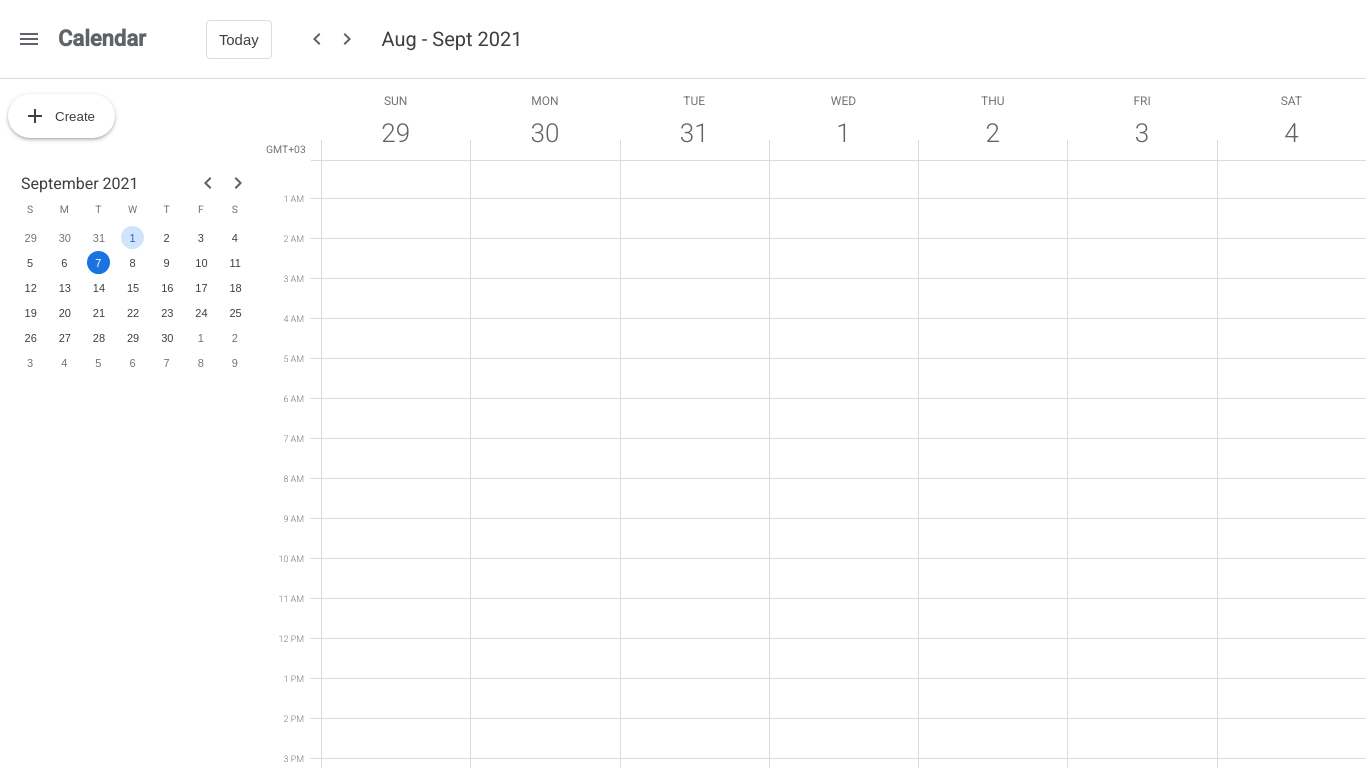
Test: App › Header › should render previous week days when previous week button is clicked
Click the button with test id "previous-week-button" at (317, 39), box left=302, top=24, right=332, bottom=54
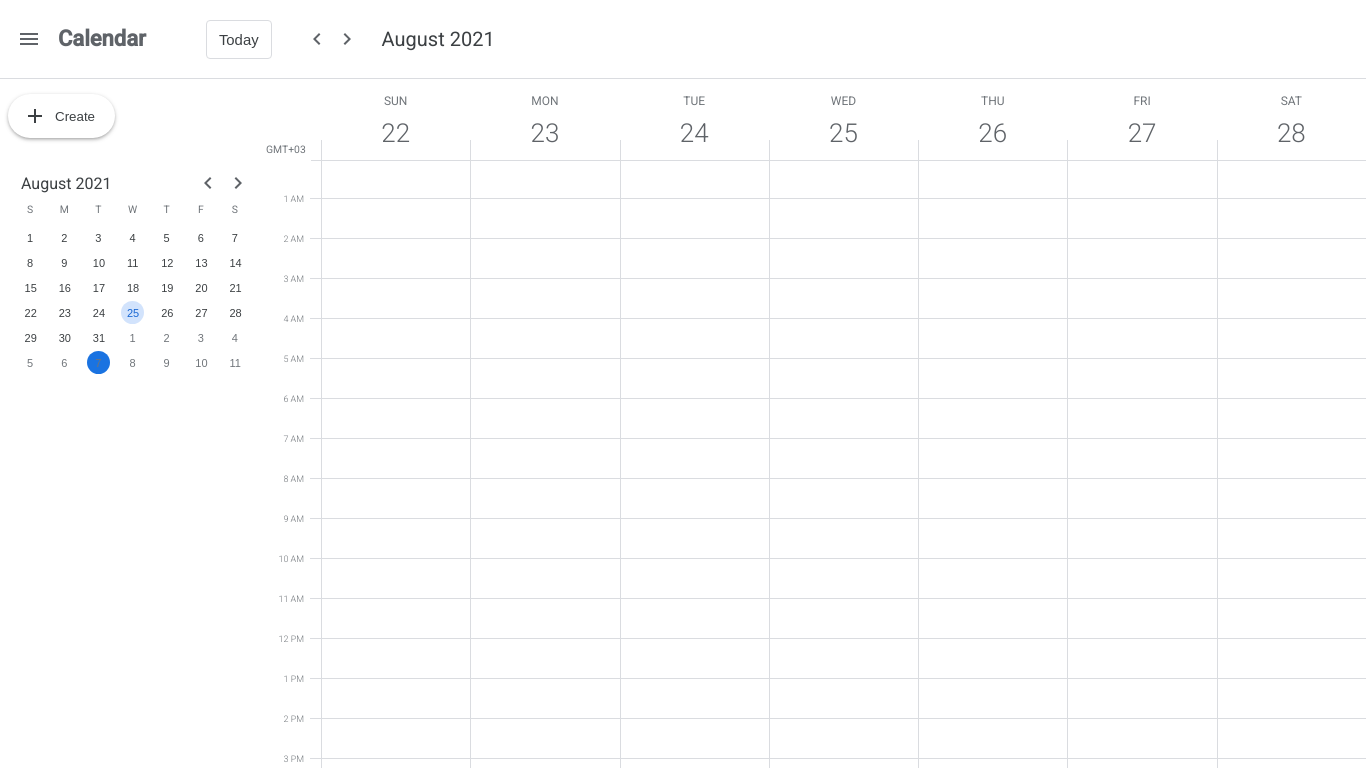
Expected: the text with test id "weekday-sun" reads "22", left=381, top=118, right=410, bottom=148
Expected: the text with test id "weekday-mon" reads "23", left=530, top=118, right=559, bottom=148
Expected: the text with test id "weekday-tue" reads "24", left=680, top=118, right=709, bottom=148
